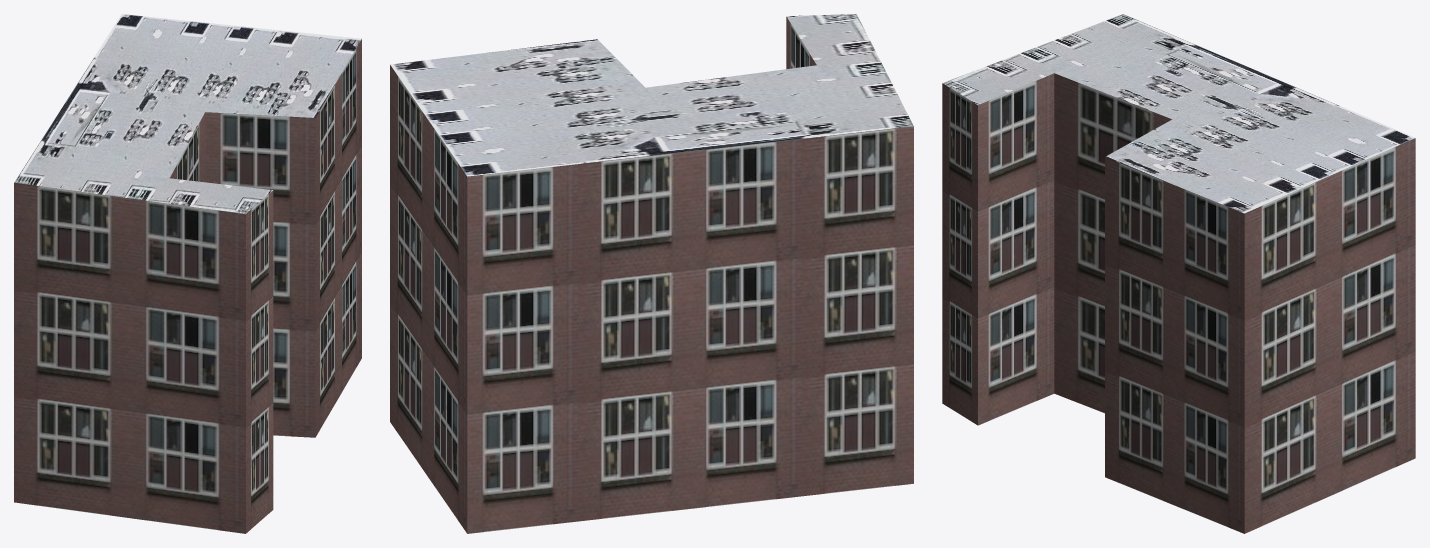
The model's file is ResTex__4164.fbx.
The picture shows the model from 3 angles, left to right: view 1: azimuth 30°, elevation 25°; view 2: azimuth 150°, elevation 25°; view 3: azimuth 270°, elevation 25°; orthographic projection. The views are drawn at different scales.
Visible parts, largest first — view 1: CityEngineMaterial_12_m, CityEngineMaterial_4_m; view 2: CityEngineMaterial_12_m, CityEngineMaterial_4_m; view 3: CityEngineMaterial_12_m, CityEngineMaterial_4_m.
Boxes of the visible parts, x1,y1,x2,y2 form: CityEngineMaterial_12_m: [14, 39, 361, 533]; CityEngineMaterial_4_m: [14, 14, 361, 214]; CityEngineMaterial_12_m: [390, 17, 913, 533]; CityEngineMaterial_4_m: [390, 14, 913, 176]; CityEngineMaterial_12_m: [942, 73, 1415, 533]; CityEngineMaterial_4_m: [942, 14, 1414, 213].
Size of the model in its own units: 12.02 by 9 by 12.05.
Materials: 2 (2 with a texture image).
